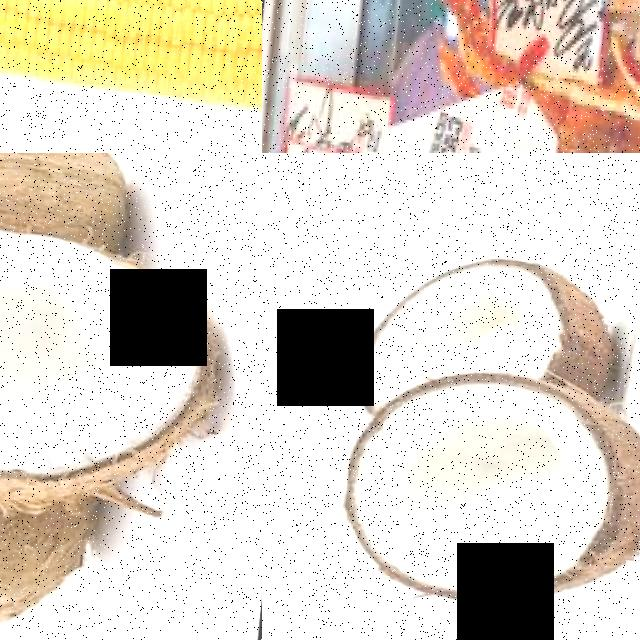coconut: (330, 370, 640, 627), (0, 208, 223, 521), (350, 238, 628, 391), (0, 454, 110, 640), (0, 153, 150, 248)
corn: (0, 0, 262, 146)
